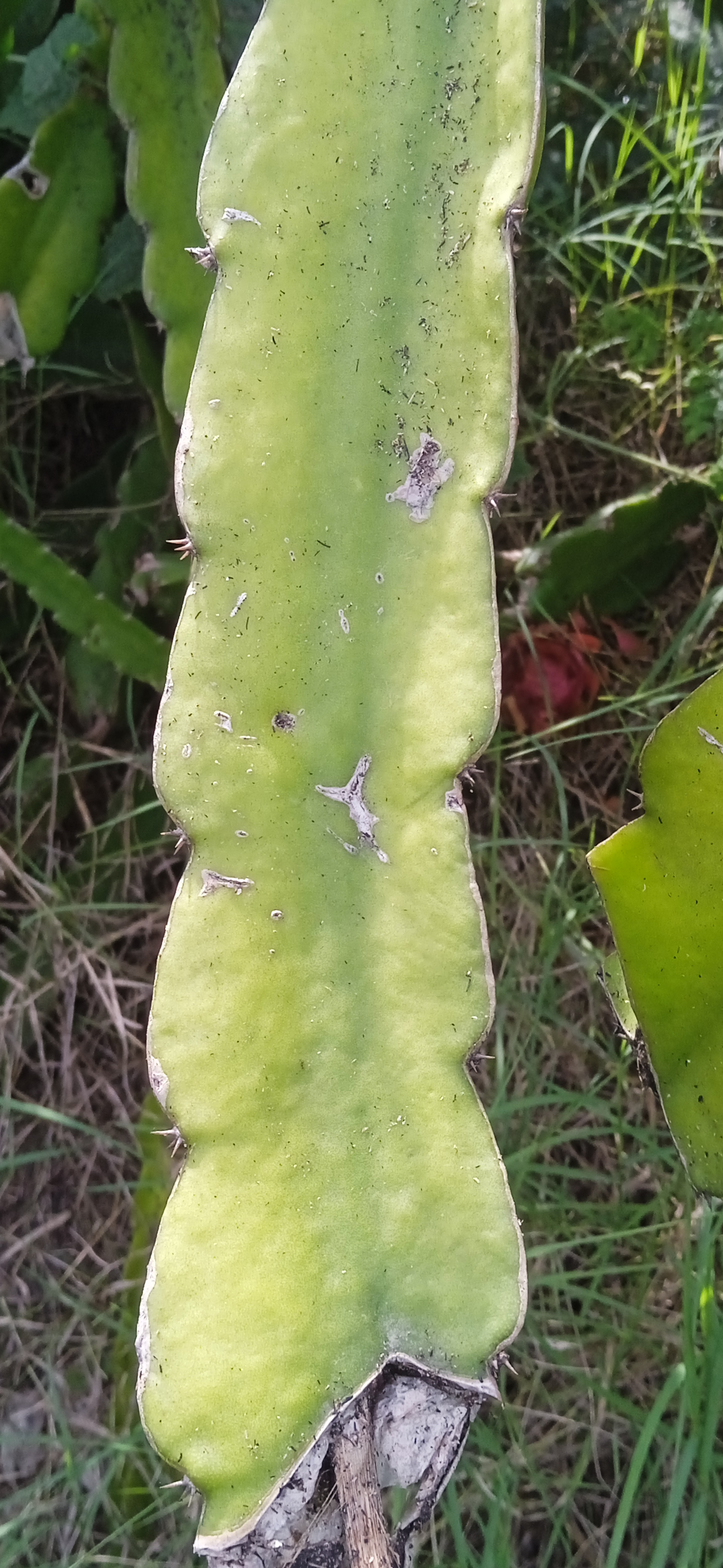stemcanker: (131, 1, 549, 1568)
